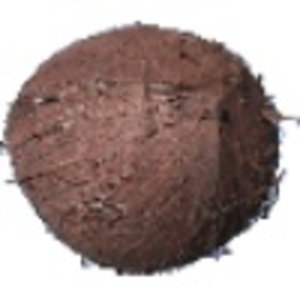coco: (1, 23, 300, 276)
